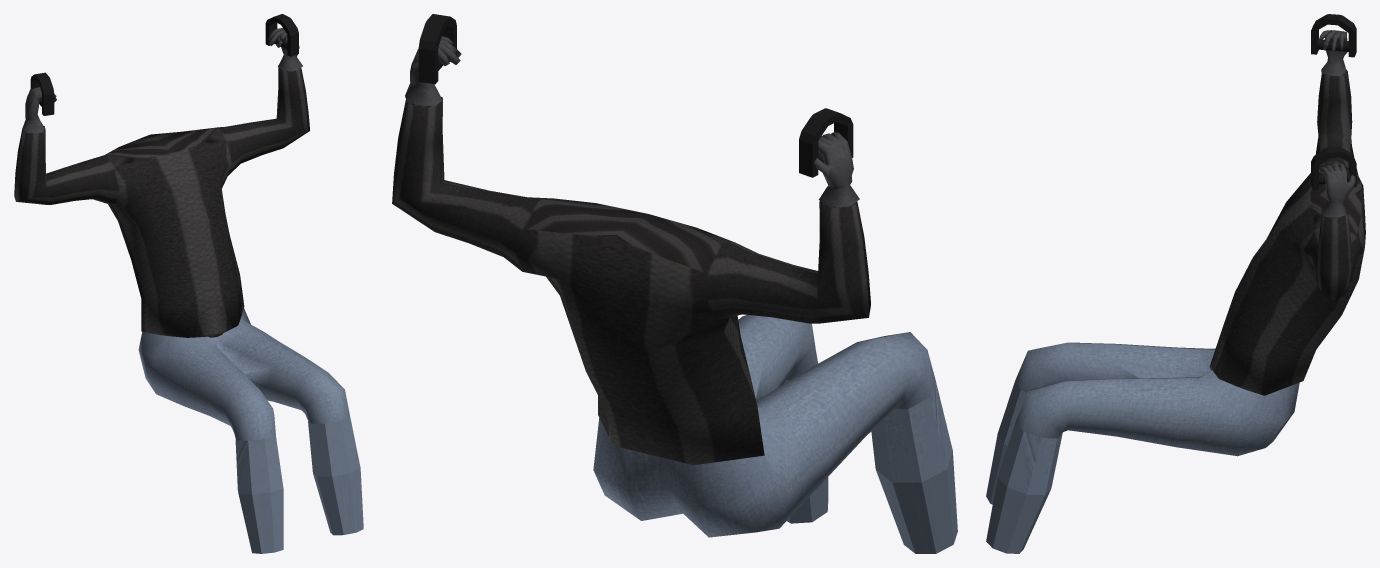
Rendered from CharacterModel.FBX.
3 renders of one model, left to right at view 1: azimuth 30°, elevation 25°; view 2: azimuth 150°, elevation 25°; view 3: azimuth 270°, elevation 25°, orthographic. The views are drawn at different scales.
Visible parts, largest first — view 1: Cylinder001; view 2: Cylinder001; view 3: Cylinder001.
Boxes of the visible parts, left/top/right/bottom form: Cylinder001: left=14, top=14, right=363, bottom=553; Cylinder001: left=392, top=14, right=957, bottom=553; Cylinder001: left=986, top=14, right=1365, bottom=553.
Size of the model in its own units: 1.12 by 1.43 by 1.1.
Materials: 1 (1 with a texture image).
